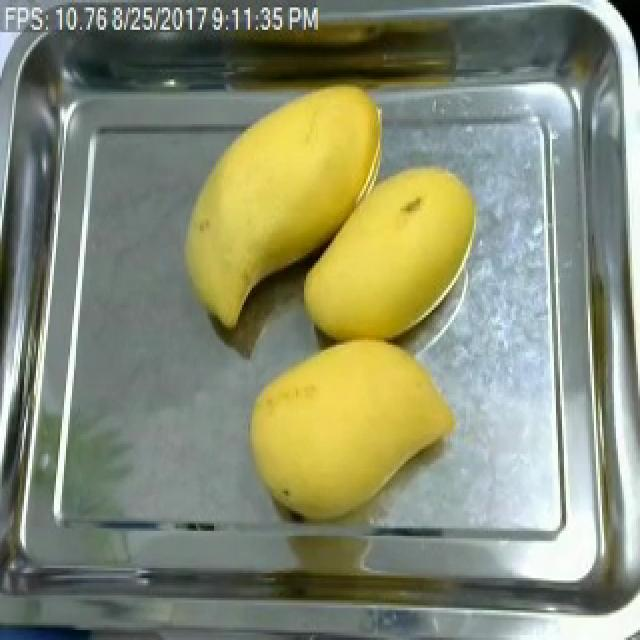fruit: (164, 75, 398, 342), (232, 330, 466, 533)
